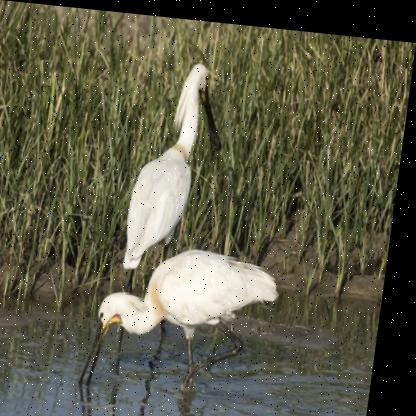Burung: (88, 233, 291, 400), (113, 53, 232, 317)
